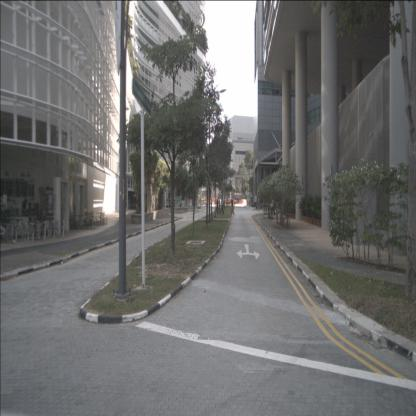barrier: (242, 199, 247, 205), (210, 198, 215, 204), (238, 199, 242, 205), (215, 199, 219, 204), (219, 199, 222, 204)
